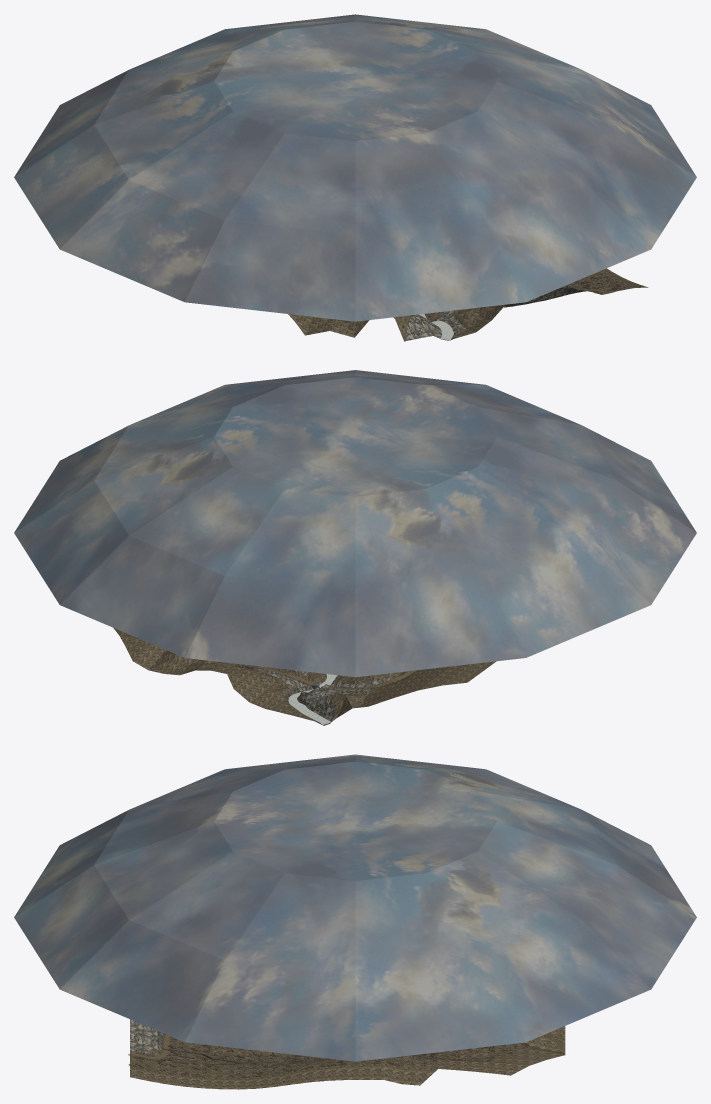
The model's file is recovered_map_mp53.glb.
3 renders of one model, top to bottom at view 1: azimuth 30°, elevation 25°; view 2: azimuth 150°, elevation 25°; view 3: azimuth 270°, elevation 25°, orthographic.
Parts seen in each view (by area): view 1: S_sky02, W_ground_grass02, W_clifftex02, W_grassclump1; view 2: S_sky02, W_ground_grass02, W_clifftex02; view 3: S_sky02, W_ground_grass02, W_grassclump1, W_clifftex02.
Boxes of the visible parts, <box> form: S_sky02: <box>14,14,696,321</box>; W_ground_grass02: <box>288,268,648,340</box>; W_clifftex02: <box>404,284,597,341</box>; W_grassclump1: <box>410,272,634,319</box>; S_sky02: <box>14,370,696,677</box>; W_ground_grass02: <box>113,628,496,722</box>; W_clifftex02: <box>240,664,395,721</box>; S_sky02: <box>14,754,696,1061</box>; W_ground_grass02: <box>130,1026,565,1089</box>; W_grassclump1: <box>128,1037,529,1078</box>; W_clifftex02: <box>130,1019,165,1053</box>.
Size of what is drawn, in the model's own units: 753 by 229 by 753.
Materials: 34 (34 with a texture image).
